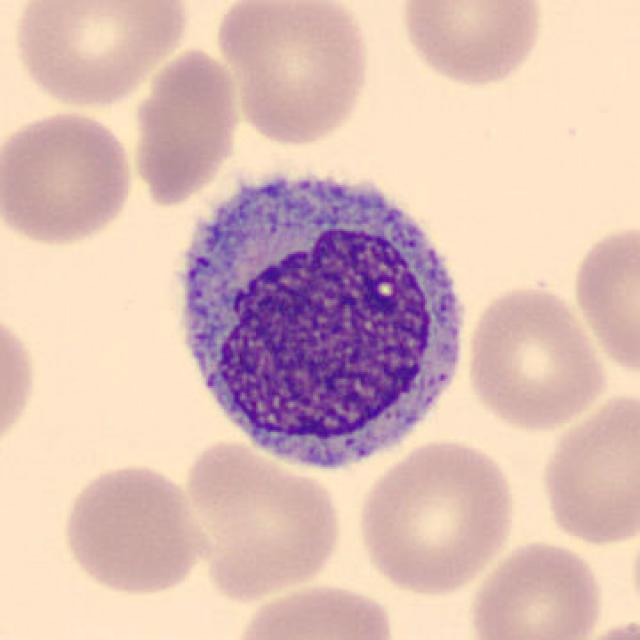Monocyte: (156, 150, 482, 485)
RBC: (178, 434, 345, 603), (352, 434, 521, 596), (212, 0, 375, 148), (462, 280, 612, 434), (57, 458, 210, 598), (6, 0, 196, 111), (0, 106, 139, 250), (124, 42, 243, 208), (535, 386, 638, 550), (466, 536, 608, 640), (395, 0, 549, 90), (569, 217, 640, 379), (226, 578, 396, 640), (0, 302, 41, 460), (567, 613, 640, 640)
